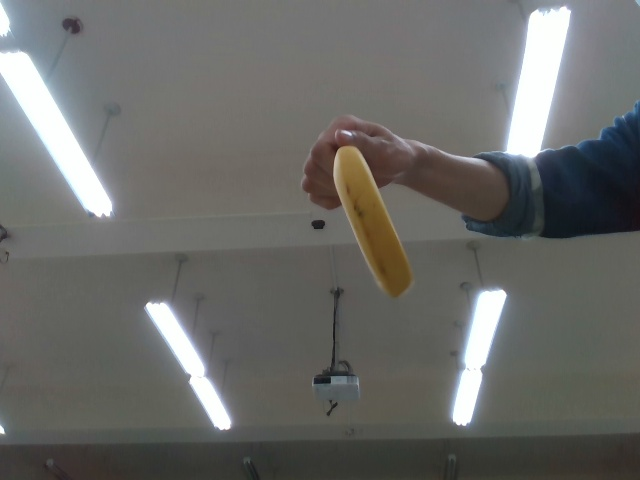banana: (327, 146, 417, 303)
